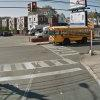Crosswalk: (4, 55, 94, 82)
